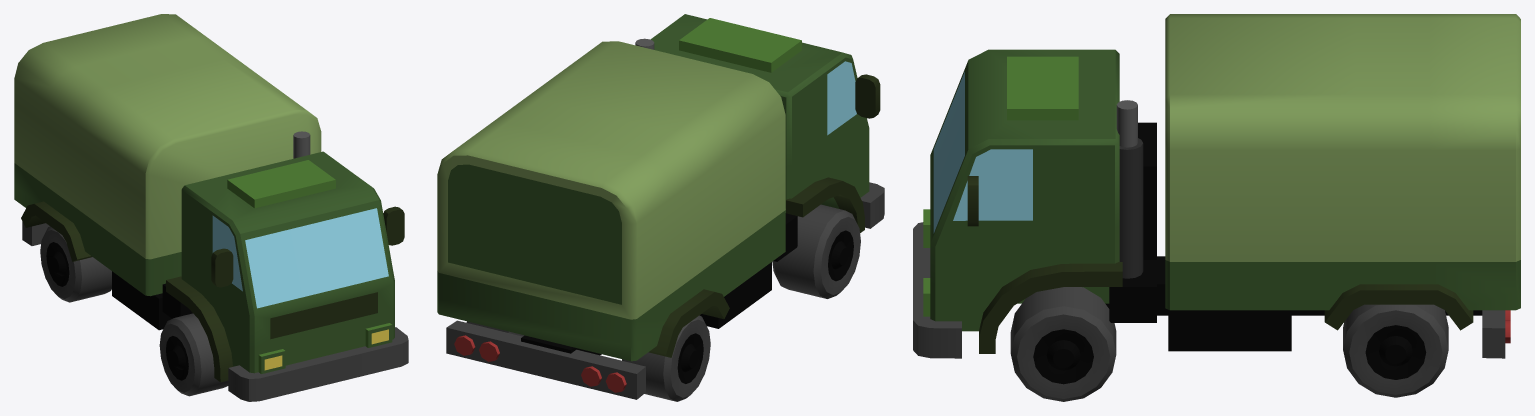
File: Truck 1.fbx
3 views of the same model, side by side, from view 1: azimuth 30°, elevation 25°; view 2: azimuth 150°, elevation 25°; view 3: azimuth 270°, elevation 25° (orthographic). The views are drawn at different scales.
Parts seen in each view (by area): view 1: Cube.458, Cube.457, Cube.461, Cylinder.549, Cylinder.551, Cube.460, Plane.079, Cube.462, Cube.464, Cube.463, Cylinder.550, Cube.465; view 2: Cube.458, Cube.457, Cylinder.549, Cube.465, Cylinder.551, Cube.460, Plane.079, Cube.464, Cylinder.552, Cube.462, Cube.461, Cube.463 (+1 smaller); view 3: Cube.458, Cube.457, Cylinder.549, Cylinder.551, Cube.464, Cube.463, Cylinder.550, Cube.460, Plane.079, Cube.461, Cube.465, Cube.459 (+1 smaller).
Boxes of the visible parts, bbox=[...] form: Cube.458: bbox=[14, 14, 321, 296]; Cube.457: bbox=[181, 151, 394, 373]; Cube.461: bbox=[228, 327, 408, 401]; Cylinder.549: bbox=[159, 313, 228, 396]; Cylinder.551: bbox=[40, 226, 111, 302]; Cube.460: bbox=[166, 276, 232, 382]; Plane.079: bbox=[21, 201, 91, 261]; Cube.462: bbox=[211, 206, 404, 287]; Cube.464: bbox=[112, 271, 171, 330]; Cube.463: bbox=[162, 283, 192, 318]; Cylinder.550: bbox=[293, 131, 310, 158]; Cube.465: bbox=[22, 221, 49, 245]; Cube.458: bbox=[437, 41, 785, 361]; Cube.457: bbox=[650, 14, 869, 212]; Cylinder.549: bbox=[772, 204, 860, 298]; Cube.465: bbox=[446, 320, 645, 399]; Cylinder.551: bbox=[466, 315, 710, 401]; Cube.460: bbox=[786, 177, 864, 233]; Plane.079: bbox=[648, 289, 729, 357]; Cube.464: bbox=[699, 262, 771, 328]; Cylinder.552: bbox=[454, 335, 626, 392]; Cube.462: bbox=[855, 74, 880, 118]; Cube.461: bbox=[860, 182, 884, 228]; Cube.463: bbox=[773, 213, 797, 261]; Cube.458: bbox=[1165, 14, 1520, 310]; Cube.457: bbox=[923, 49, 1119, 331]; Cylinder.549: bbox=[1010, 287, 1116, 401]; Cylinder.551: bbox=[1343, 304, 1448, 397]; Cube.464: bbox=[1168, 310, 1291, 351]; Cube.463: bbox=[1109, 122, 1156, 322]; Cylinder.550: bbox=[1116, 100, 1143, 278]; Cube.460: bbox=[979, 262, 1122, 353]; Plane.079: bbox=[1324, 284, 1473, 330]; Cube.461: bbox=[913, 222, 961, 358]; Cube.465: bbox=[1482, 310, 1505, 358]; Cube.459: bbox=[1105, 256, 1482, 315].
Bounding box in the file's own units: 687 × 719 × 1383.
